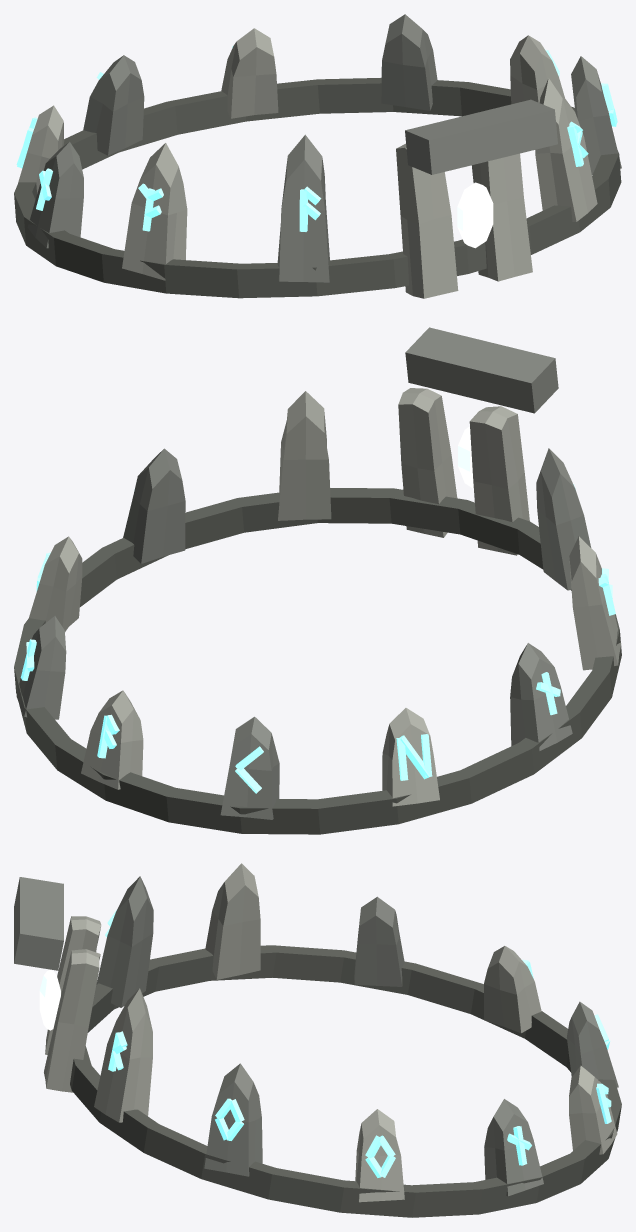
File: orla_crown.glb
3 renders of one model, top to bottom at view 1: azimuth 30°, elevation 25°; view 2: azimuth 150°, elevation 25°; view 3: azimuth 270°, elevation 25°, orthographic. The views are drawn at different scales.
Visible parts, largest first — view 1: orla_crown; view 2: orla_crown; view 3: orla_crown.
Part boxes in pixels (<box>): orla_crown: <box>14,14,621,298</box>; orla_crown: <box>14,327,621,834</box>; orla_crown: <box>14,863,621,1217</box>.
Bounding box in the file's own units: 1 × 0.4408 × 1.08.
